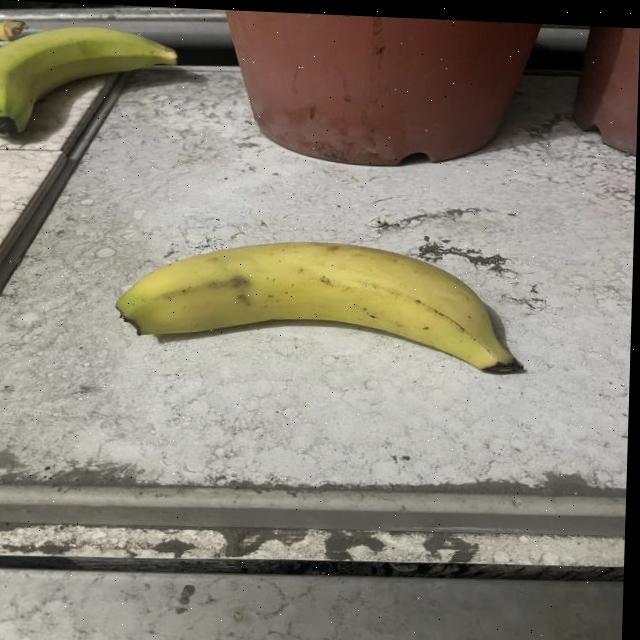banana: (111, 231, 529, 373)
